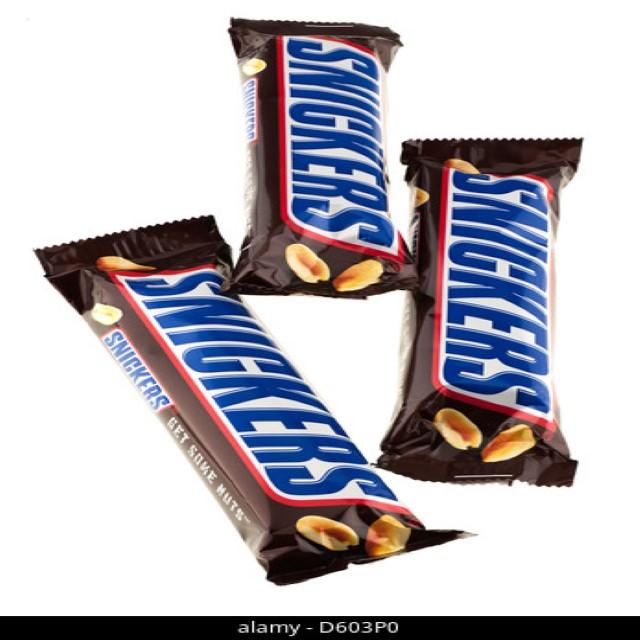snickers_chocolate: (42, 232, 400, 563), (428, 128, 577, 498), (240, 23, 393, 297)
